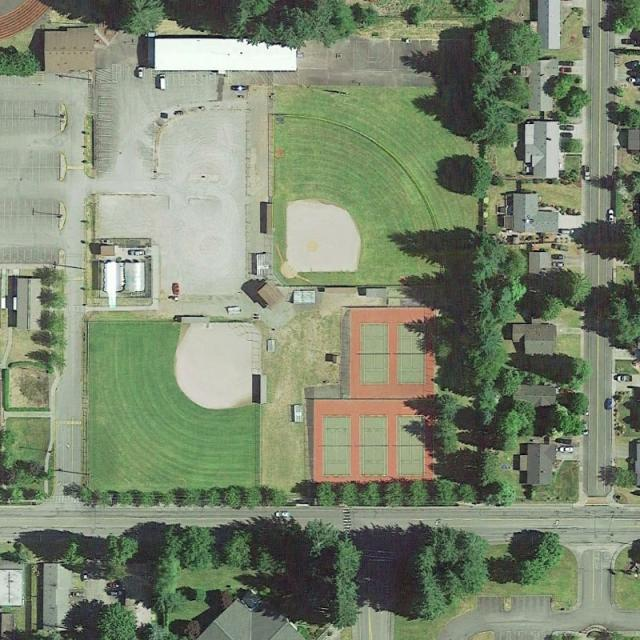vehicle: (614, 374, 633, 382), (558, 445, 574, 454), (582, 163, 590, 181), (558, 388, 575, 396), (230, 84, 249, 91), (159, 73, 166, 91), (559, 123, 575, 130), (129, 250, 146, 256), (608, 206, 614, 223), (606, 397, 613, 411), (560, 131, 574, 138), (554, 244, 568, 251), (582, 422, 589, 436), (137, 66, 144, 79), (172, 282, 179, 295), (560, 67, 573, 74), (559, 229, 574, 235), (107, 582, 121, 588), (560, 61, 576, 66), (552, 254, 565, 260), (552, 262, 565, 268), (107, 590, 122, 595), (275, 512, 289, 517), (73, 592, 86, 597), (586, 26, 591, 38), (83, 570, 88, 582), (629, 78, 640, 82)
